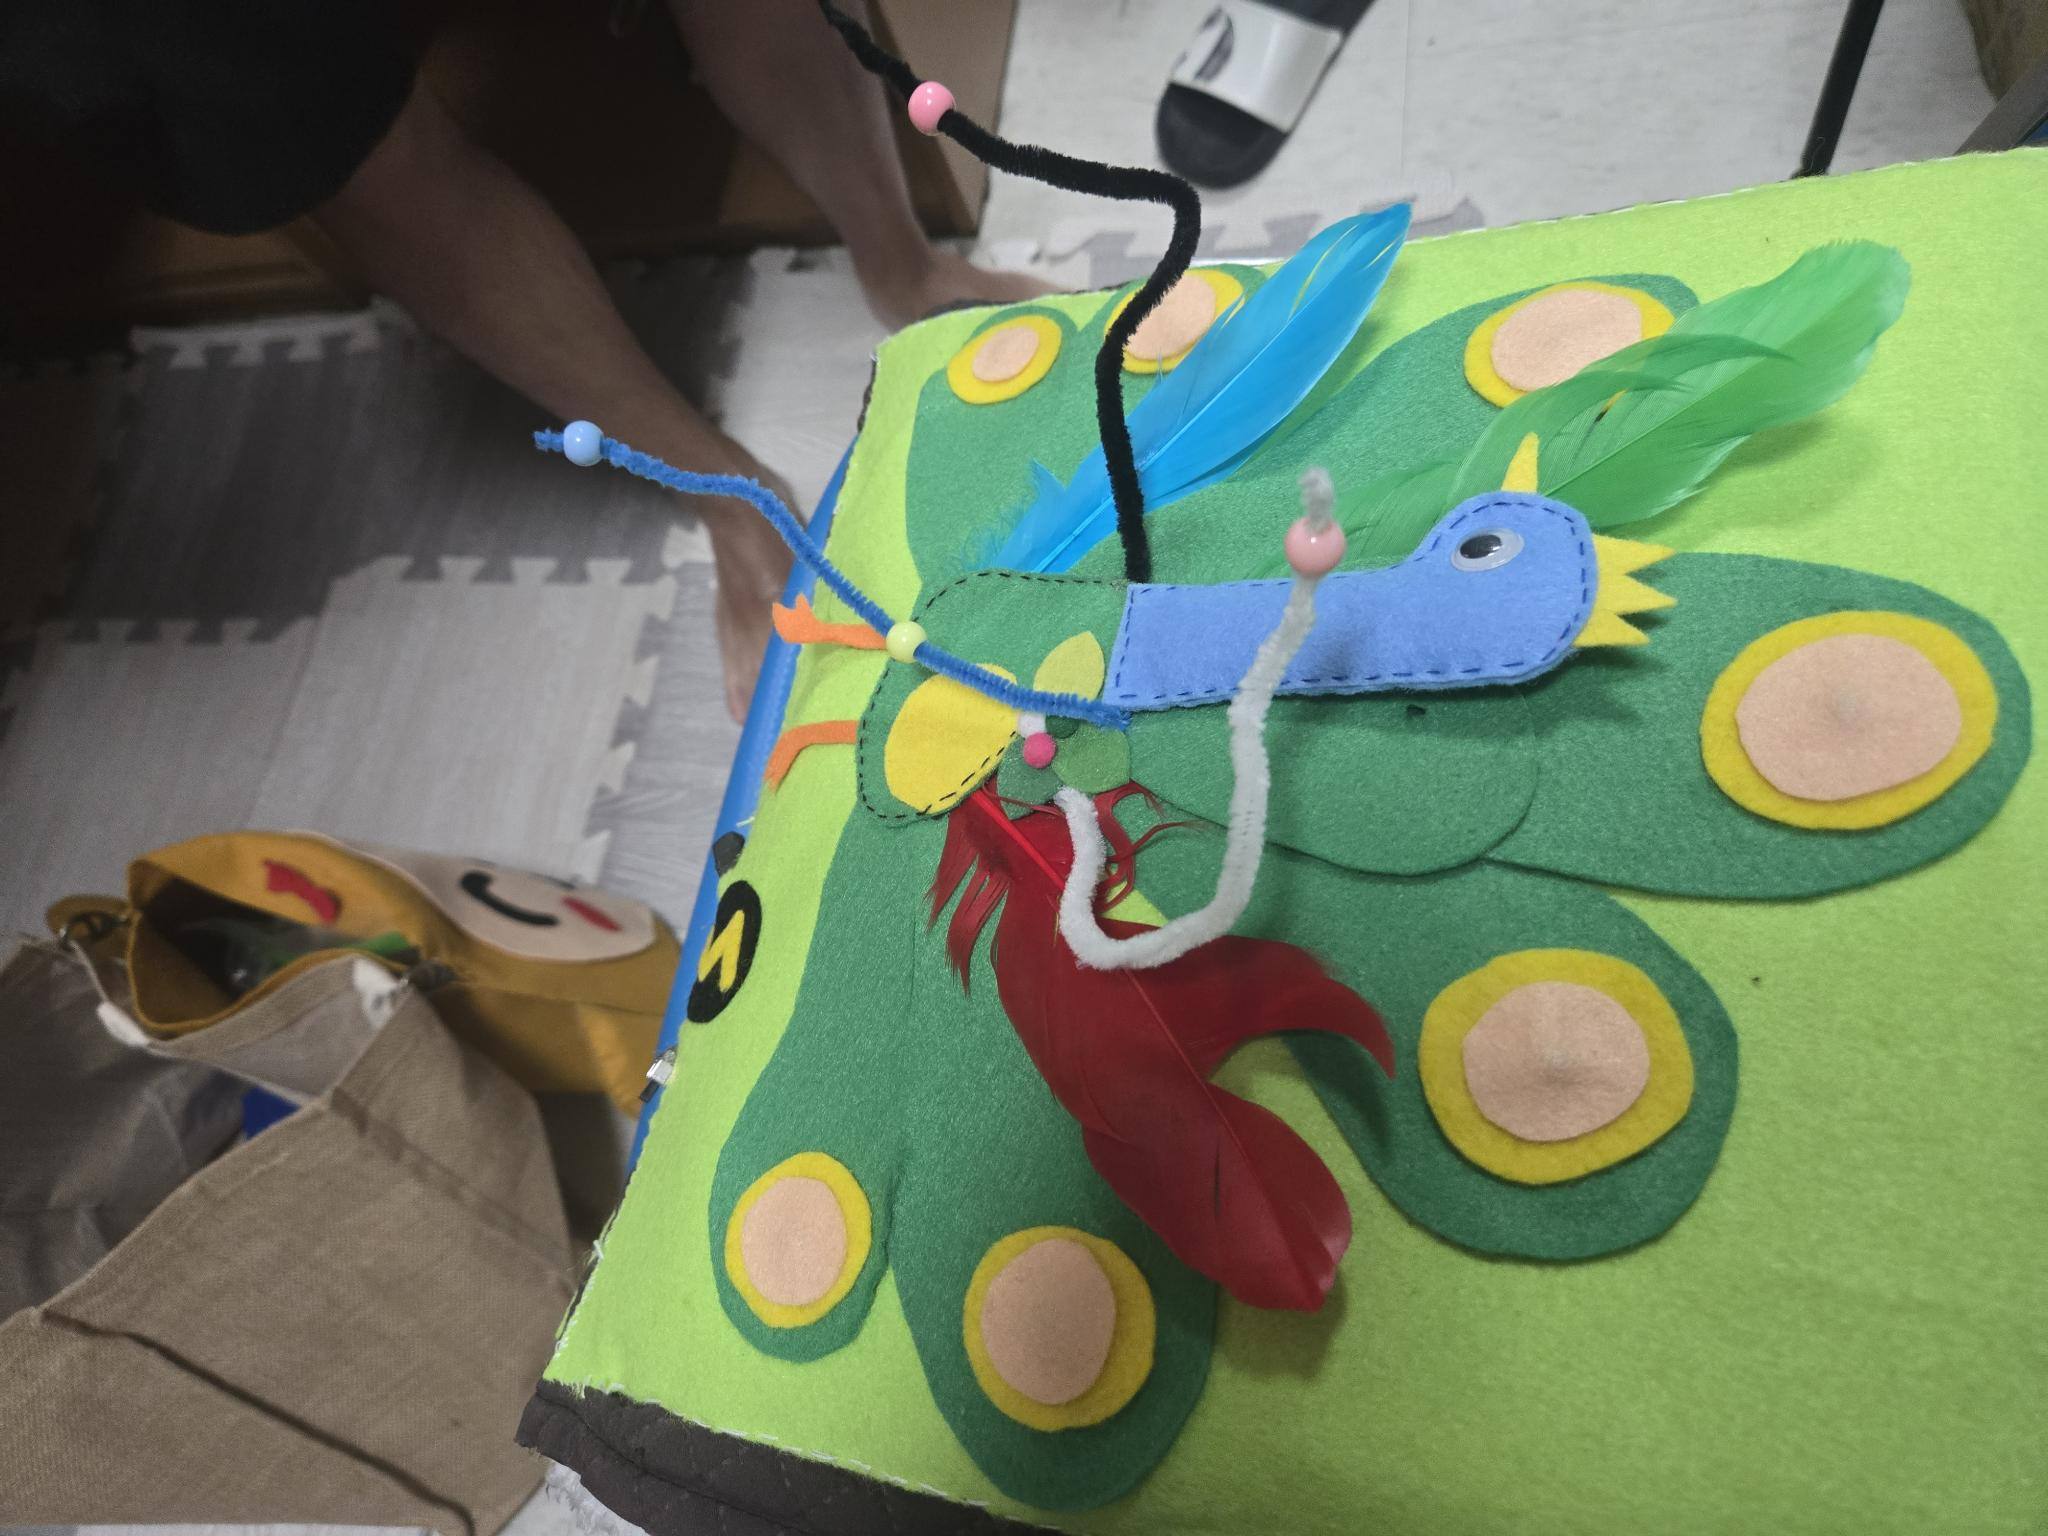bead: (1279, 508, 1356, 584), (893, 68, 964, 147), (871, 608, 942, 668), (553, 416, 614, 474)
